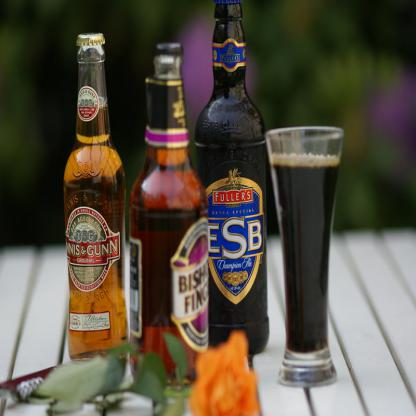drinking: (130, 42, 208, 399), (195, 0, 270, 356), (64, 34, 128, 364), (266, 126, 344, 387)
